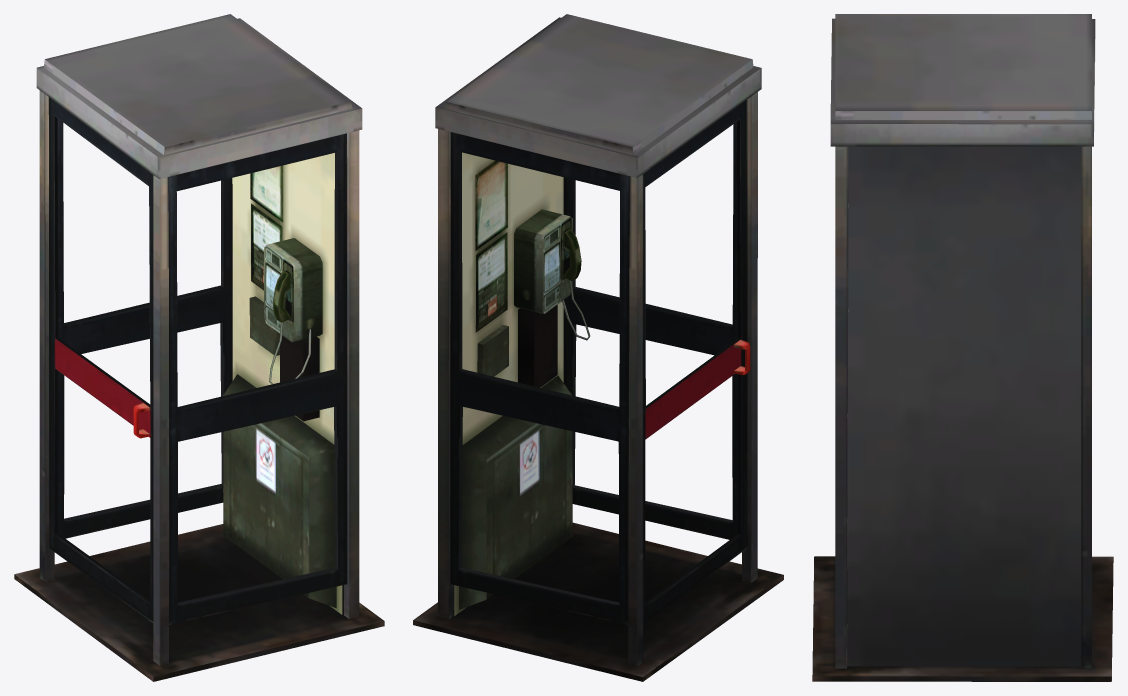
Rendered from street_phone.glb.
3 renders of one model, left to right at view 1: azimuth 30°, elevation 25°; view 2: azimuth 150°, elevation 25°; view 3: azimuth 270°, elevation 25°, orthographic. The views are drawn at different scales.
Parts seen in each view (by area): view 1: Mesh_1645.rip_noesis_meshnode_0000; view 2: Mesh_1645.rip_noesis_meshnode_0000; view 3: Mesh_1645.rip_noesis_meshnode_0000.
Part boxes in pixels (<box>): Mesh_1645.rip_noesis_meshnode_0000: <box>14,14,384,681</box>; Mesh_1645.rip_noesis_meshnode_0000: <box>413,14,783,681</box>; Mesh_1645.rip_noesis_meshnode_0000: <box>812,14,1113,681</box>.
Size of the model in its own units: 0.972 by 2.1 by 1.02.
Materials: 1 (1 with a texture image).
